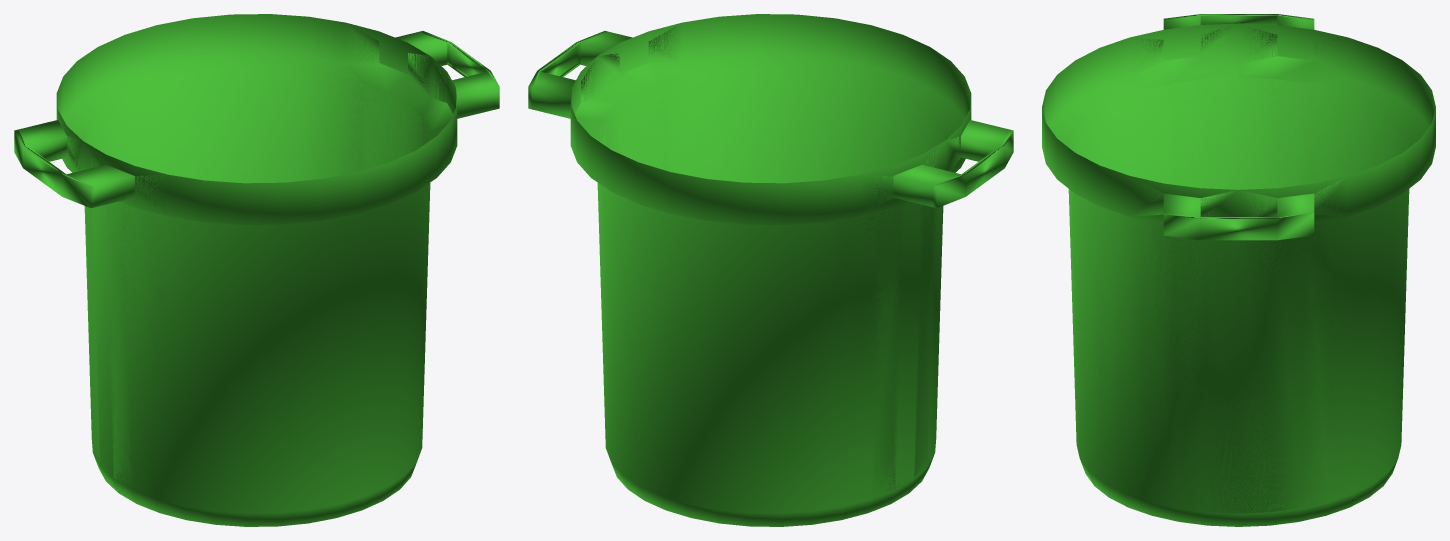
File: Trashcan.fbx
3 renders of one model, left to right at view 1: azimuth 30°, elevation 25°; view 2: azimuth 150°, elevation 25°; view 3: azimuth 270°, elevation 25°, orthographic.
Visible parts, largest first — view 1: Cylinder; view 2: Cylinder; view 3: Cylinder.
Part boxes in pixels (bbox=[...]): Cylinder: bbox=[14, 14, 499, 526]; Cylinder: bbox=[528, 14, 1013, 526]; Cylinder: bbox=[1042, 14, 1435, 526].
Size of the model in its own units: 142 by 114 by 115.
